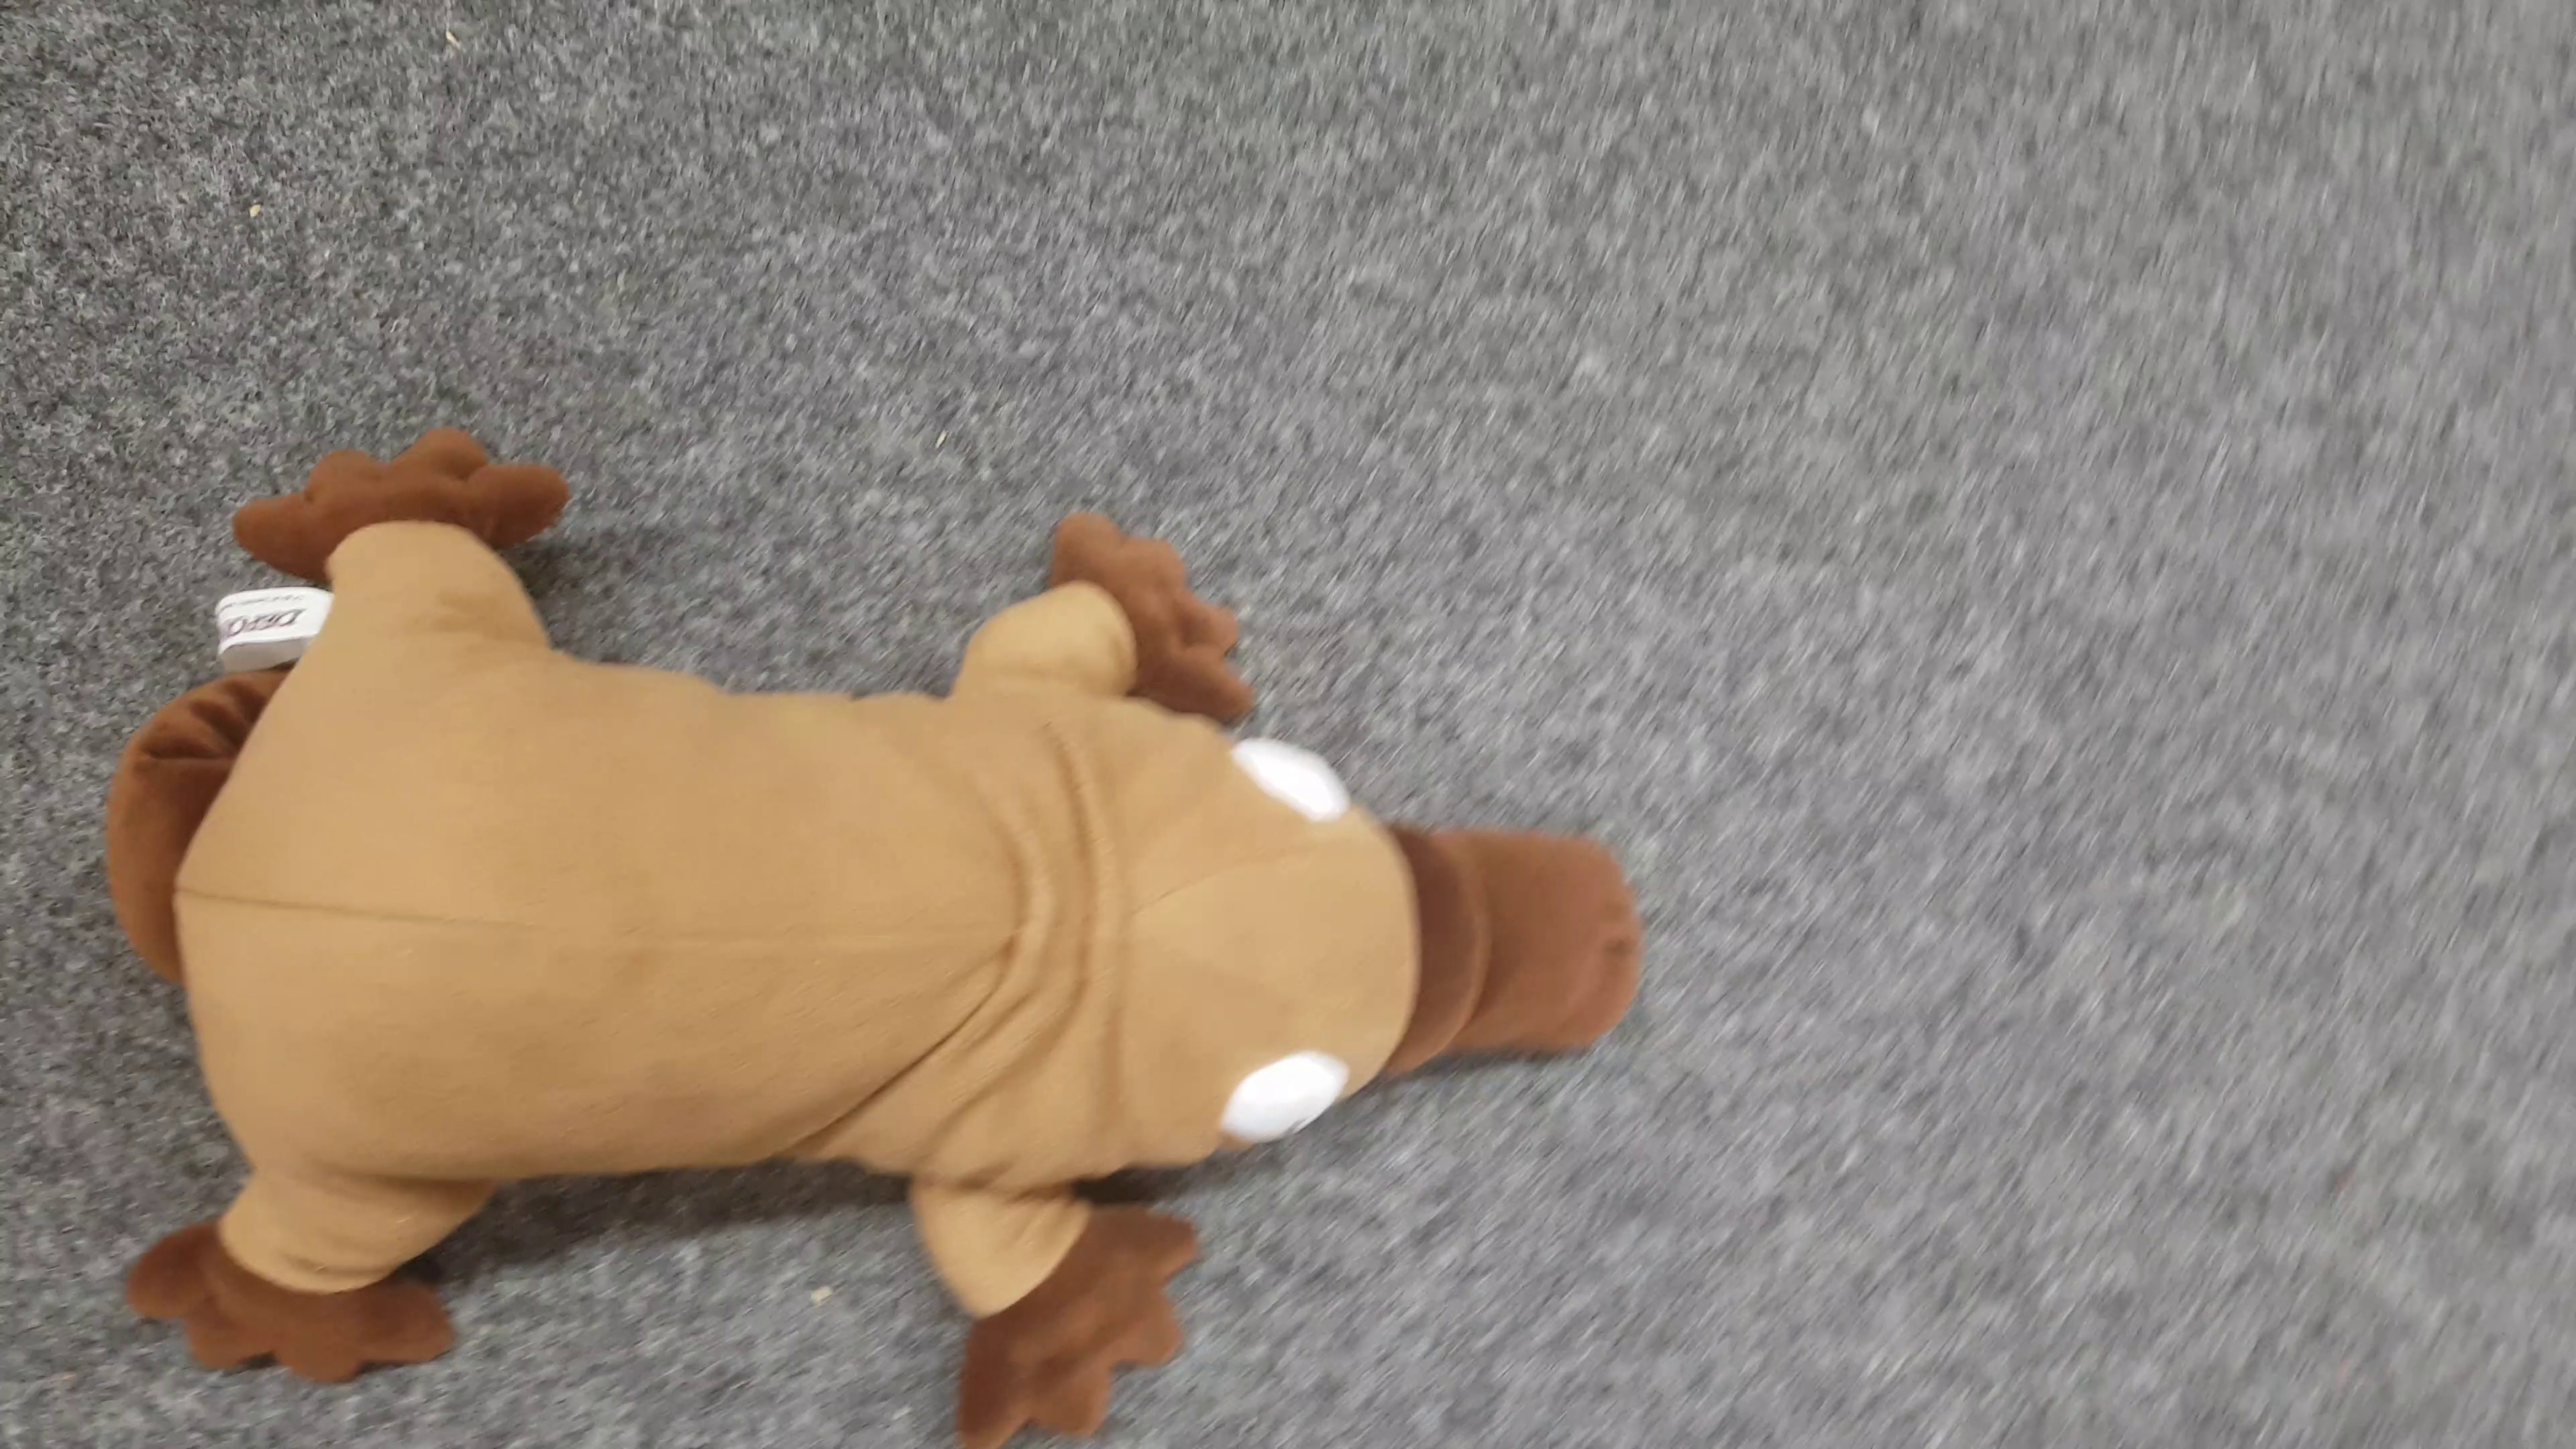grasp: (108, 425, 1654, 1449)
